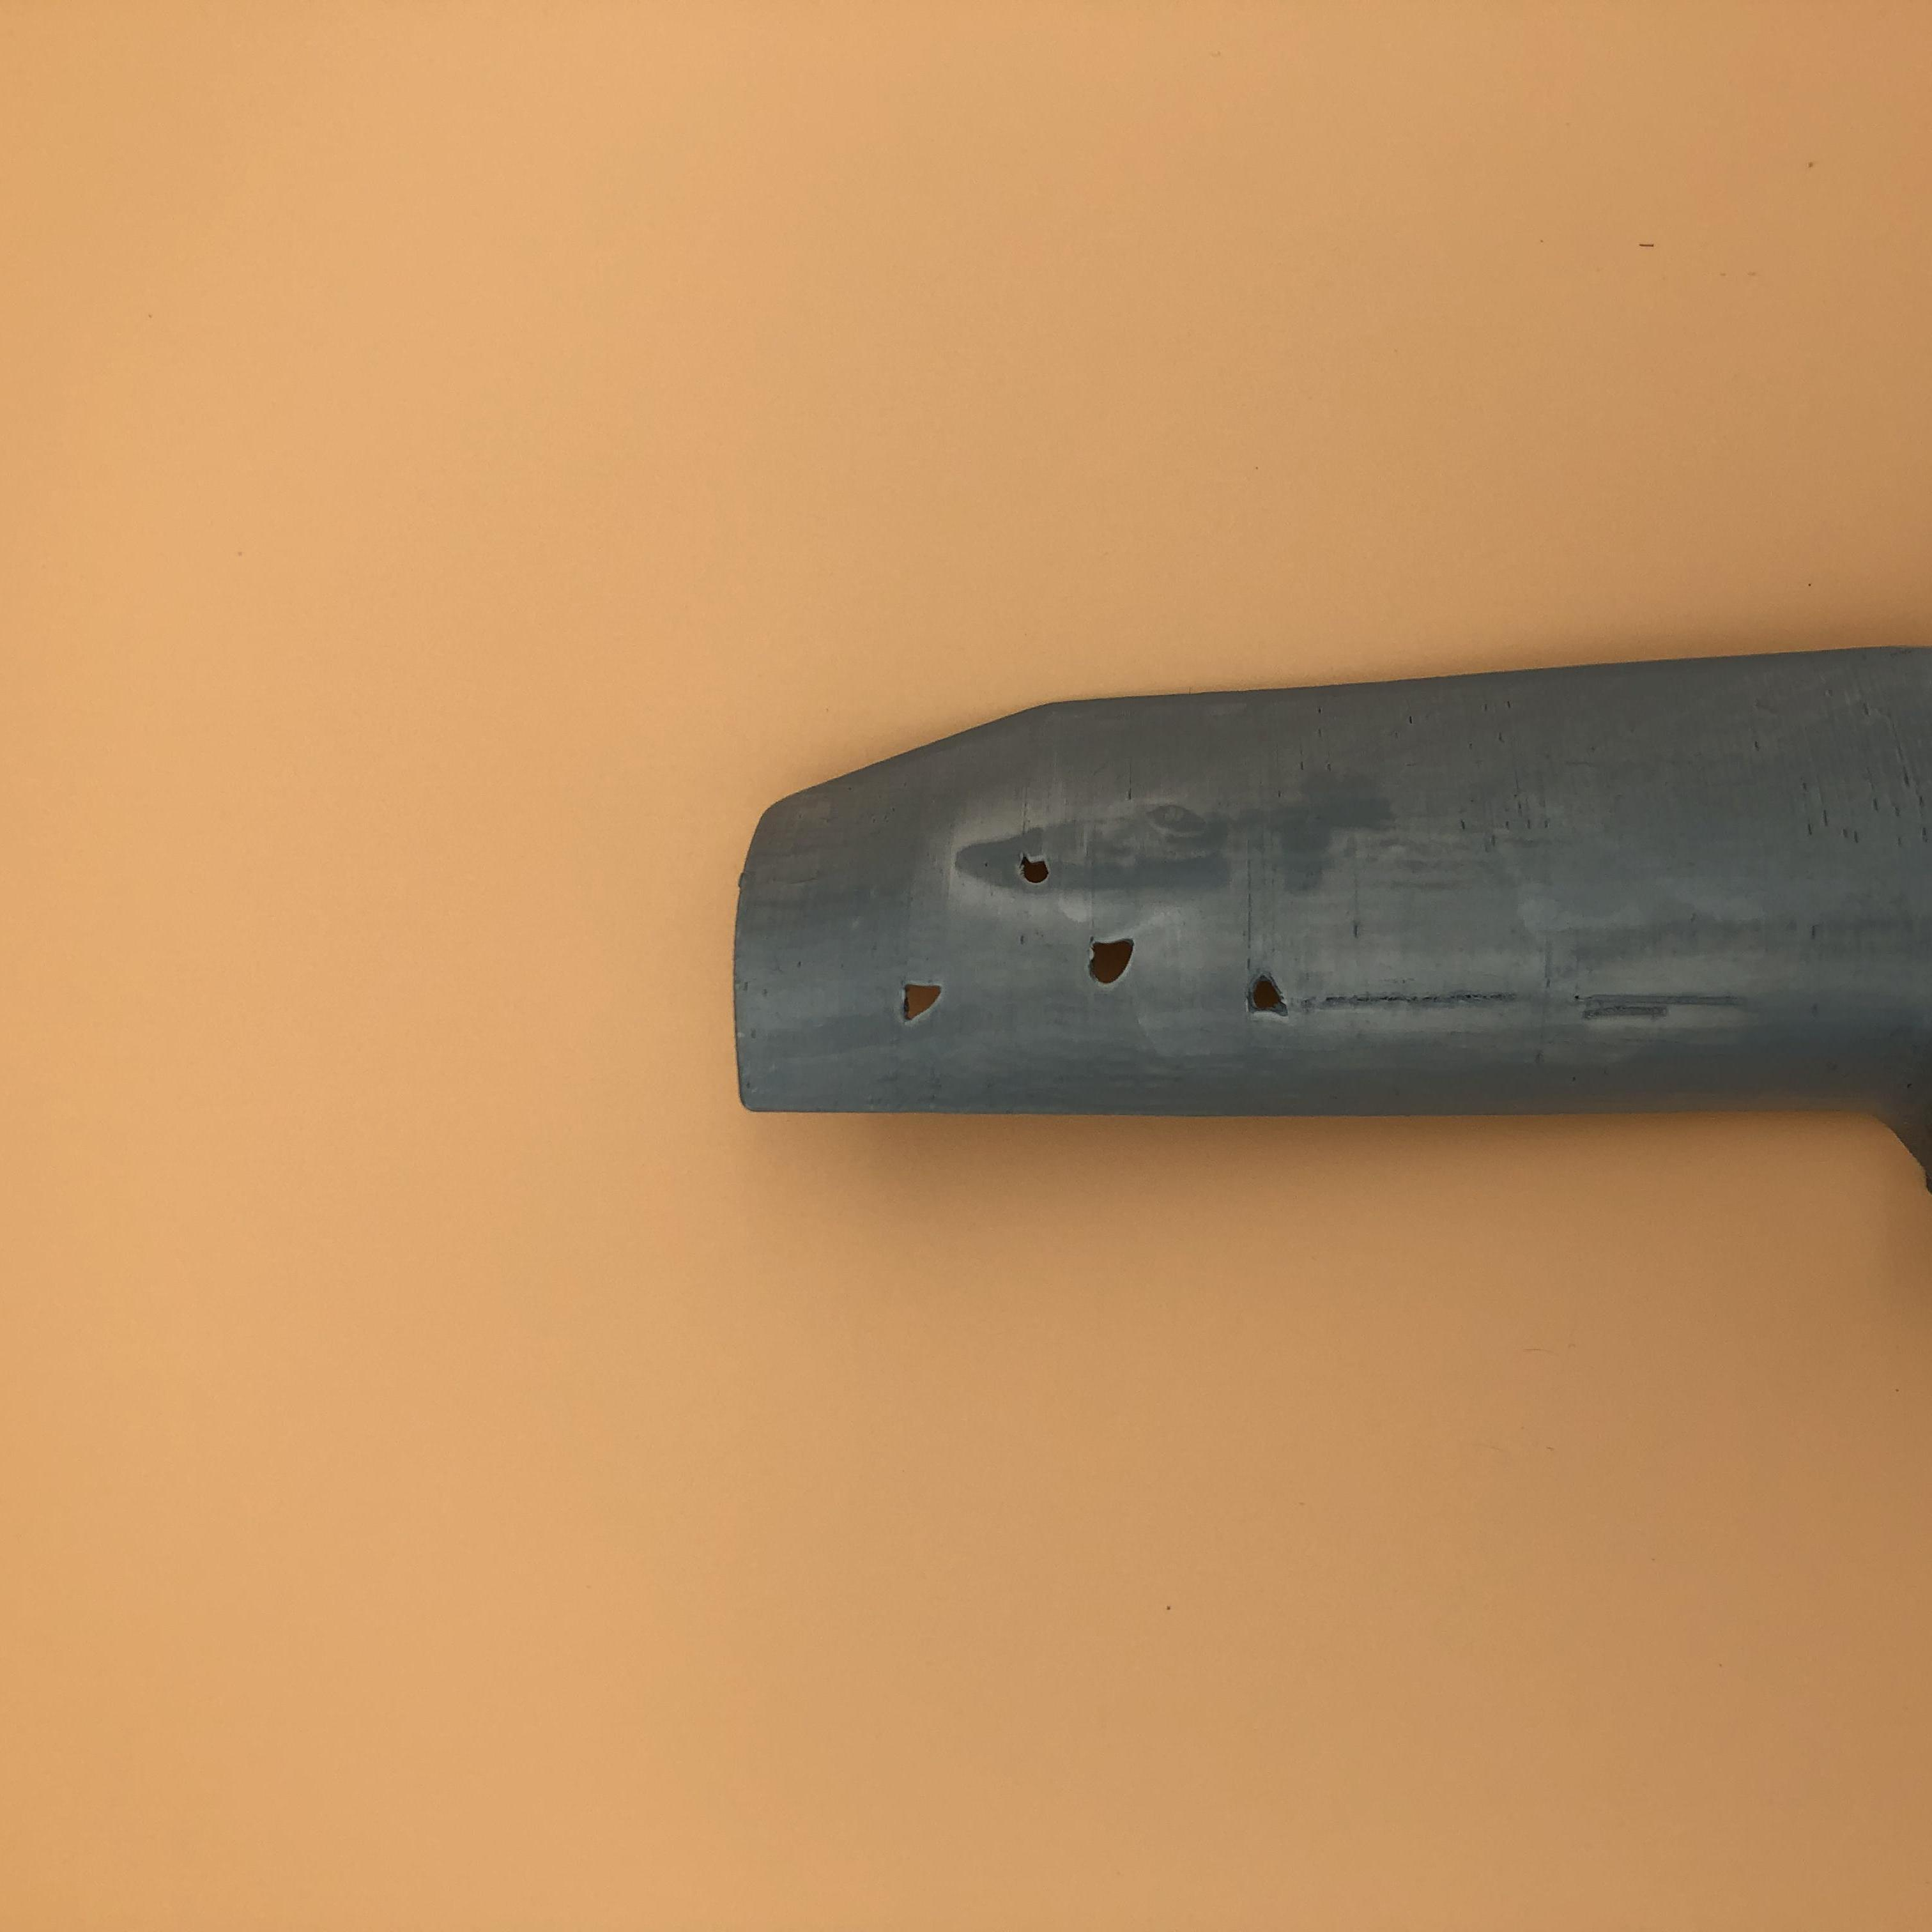breakdown: (899, 847, 1300, 1030)
